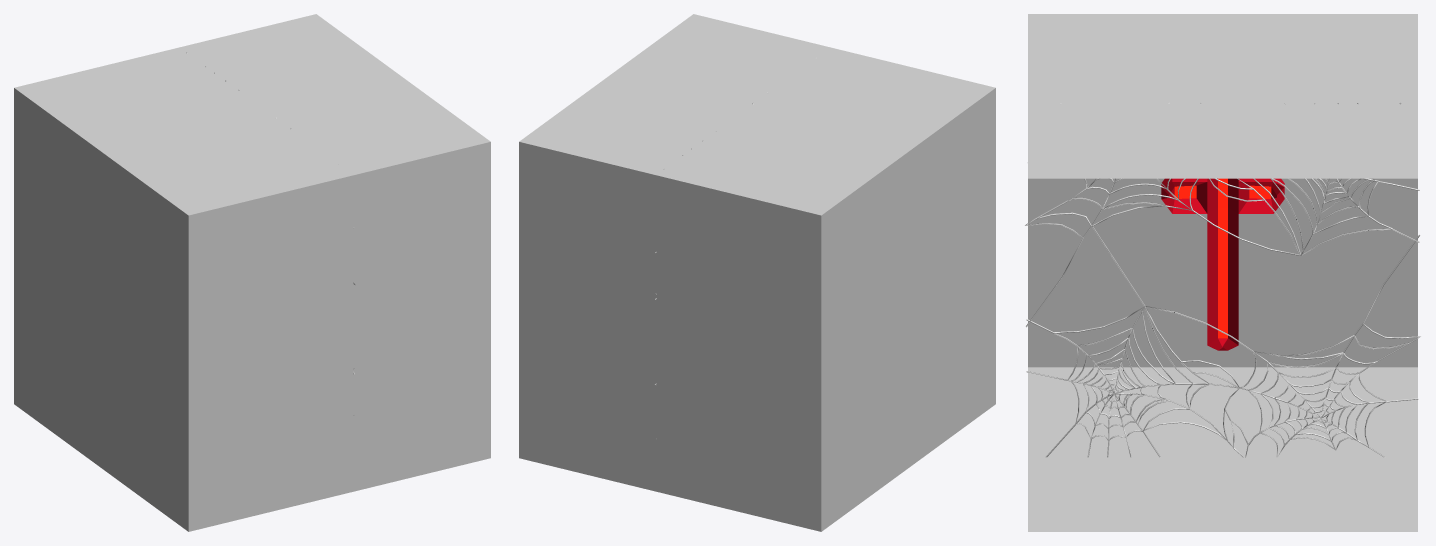
File: cross.glb
The picture shows the model from 3 angles, left to right: view 1: azimuth 30°, elevation 25°; view 2: azimuth 150°, elevation 25°; view 3: azimuth 270°, elevation 25°; orthographic projection. The views are drawn at different scales.
Parts seen in each view (by area): view 1: Cube; view 2: Cube; view 3: Cube, web.003, Cube.001, web.001.
Boxes of the visible parts, left/top/right/bottom form: Cube: left=14, top=14, right=490, bottom=531; Cube: left=519, top=14, right=995, bottom=531; Cube: left=1028, top=14, right=1417, bottom=531; web.003: left=1026, top=226, right=1420, bottom=457; Cube.001: left=1161, top=178, right=1284, bottom=350; web.001: left=1025, top=103, right=1419, bottom=327.
Bounding box in the file's own units: 6.29 × 6.36 × 6.41.
